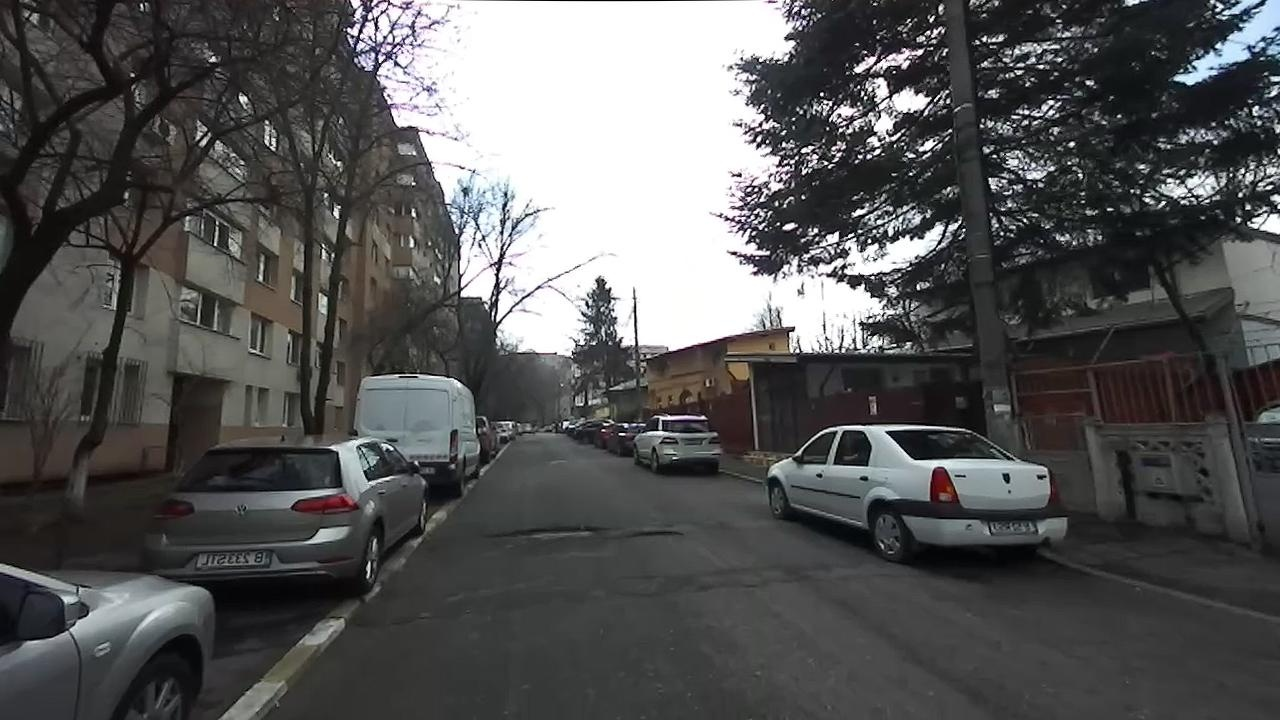pothole: (483, 523, 611, 544), (622, 527, 686, 541)
